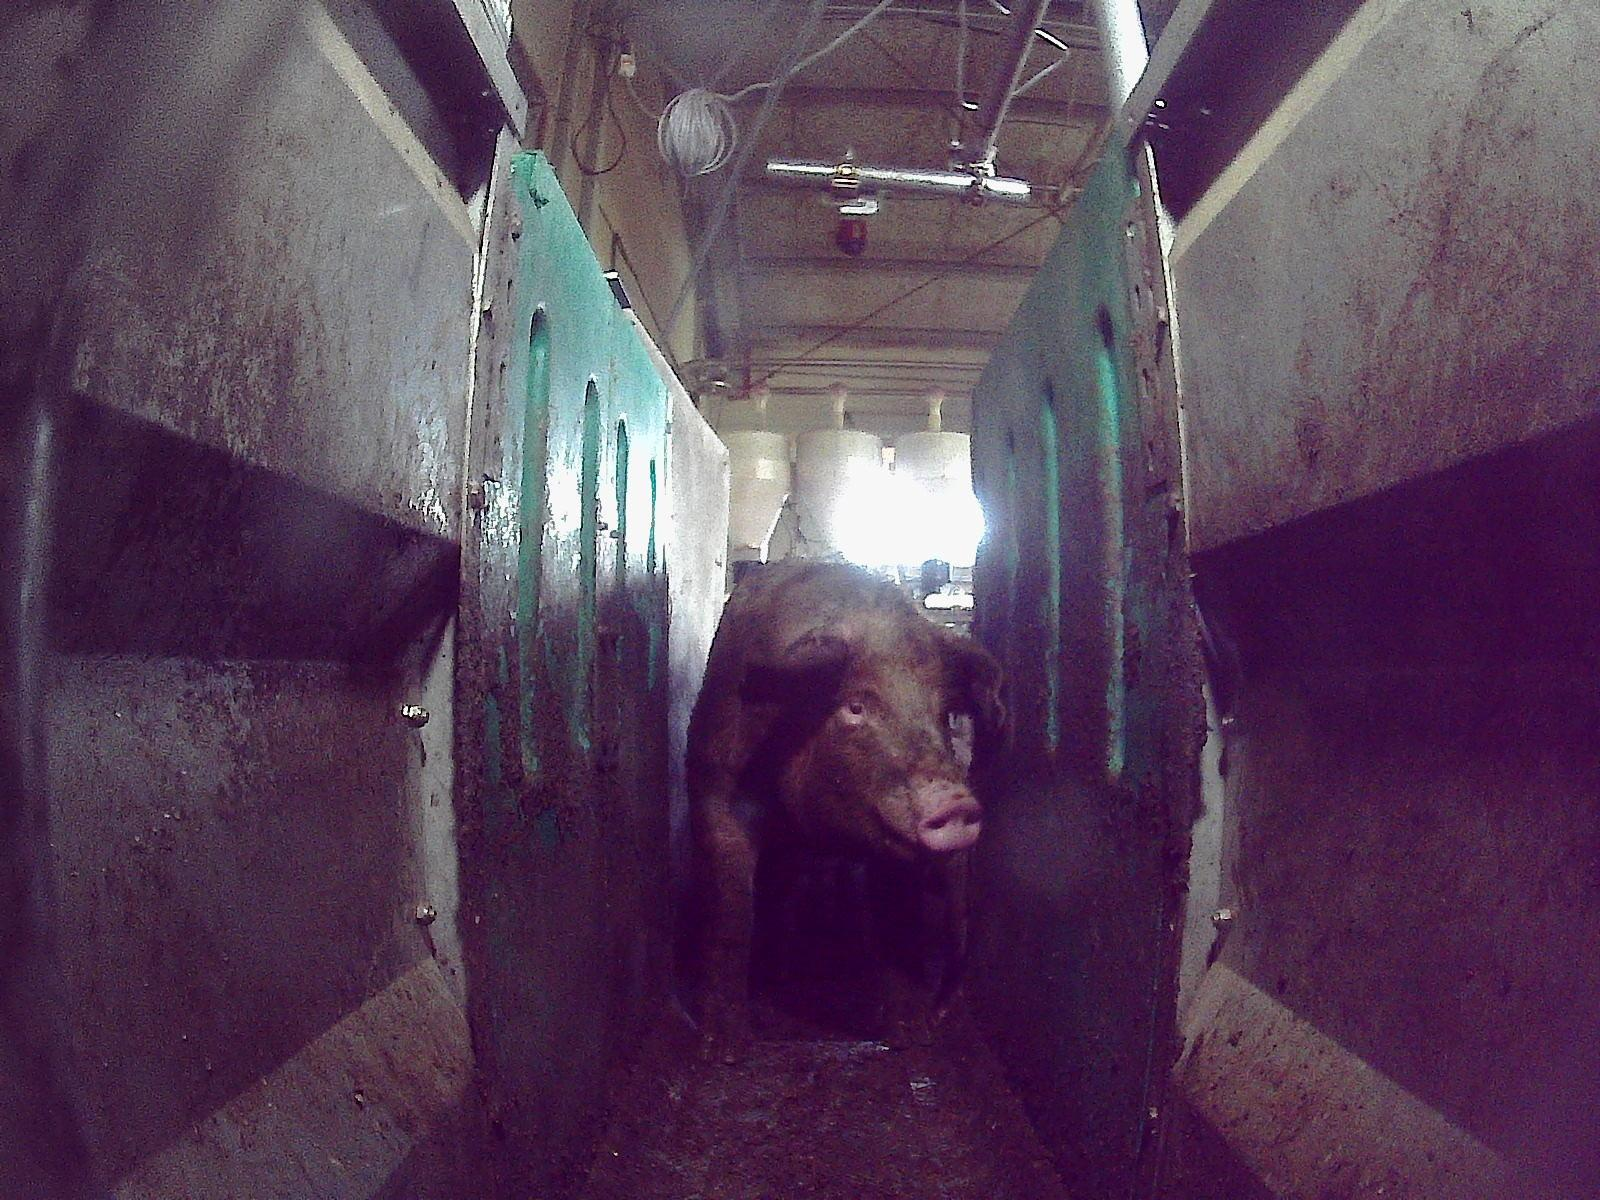Face: (778, 612, 986, 866)
